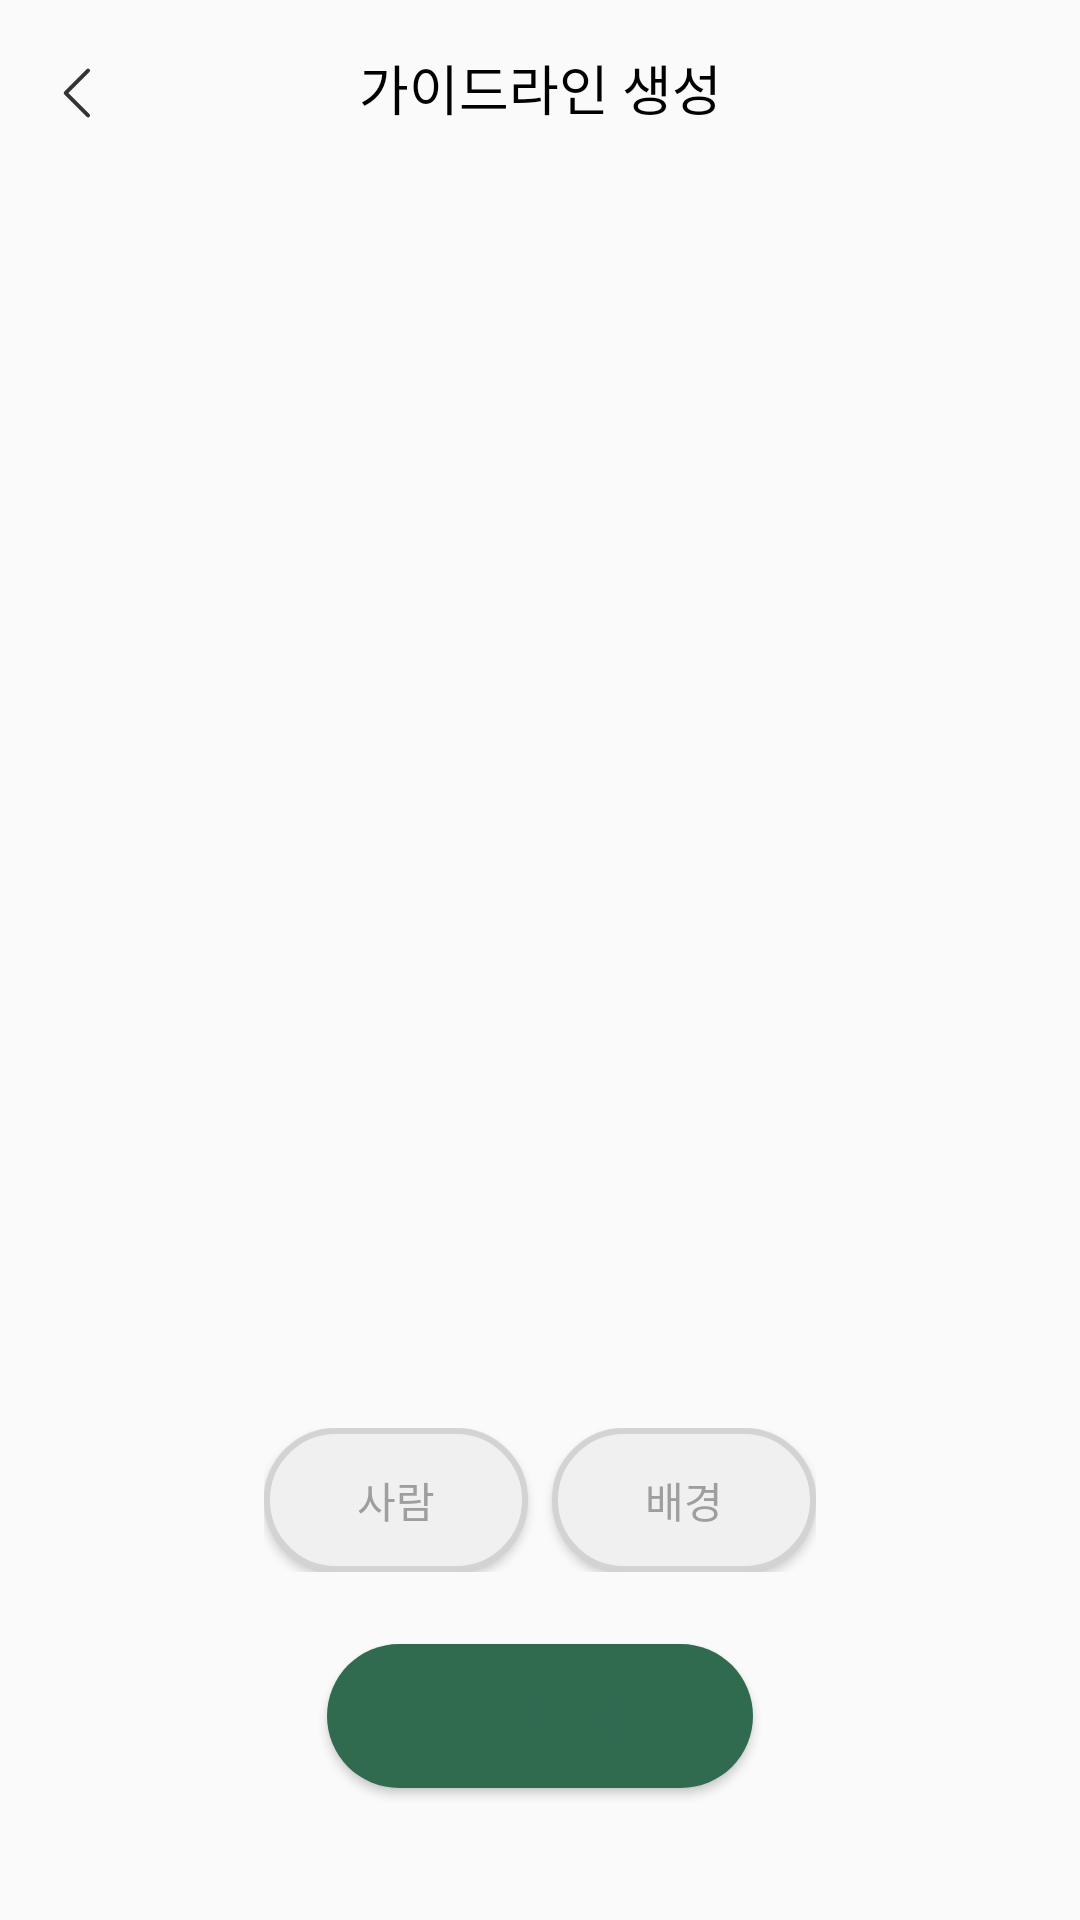

Icon bounding boxes for this 1080 x 1920 phone screenshot, format (x1, y1, x2, y2):
뒤로 가기: (63, 68, 90, 118)
